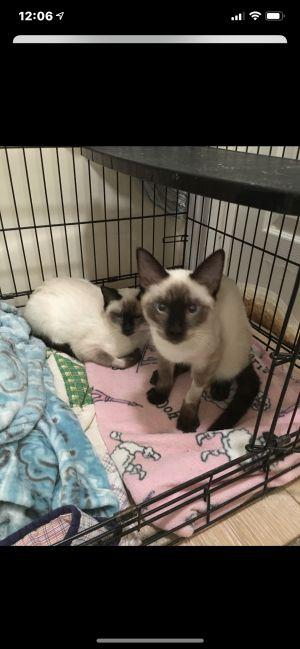siamese: (121, 231, 233, 356)
